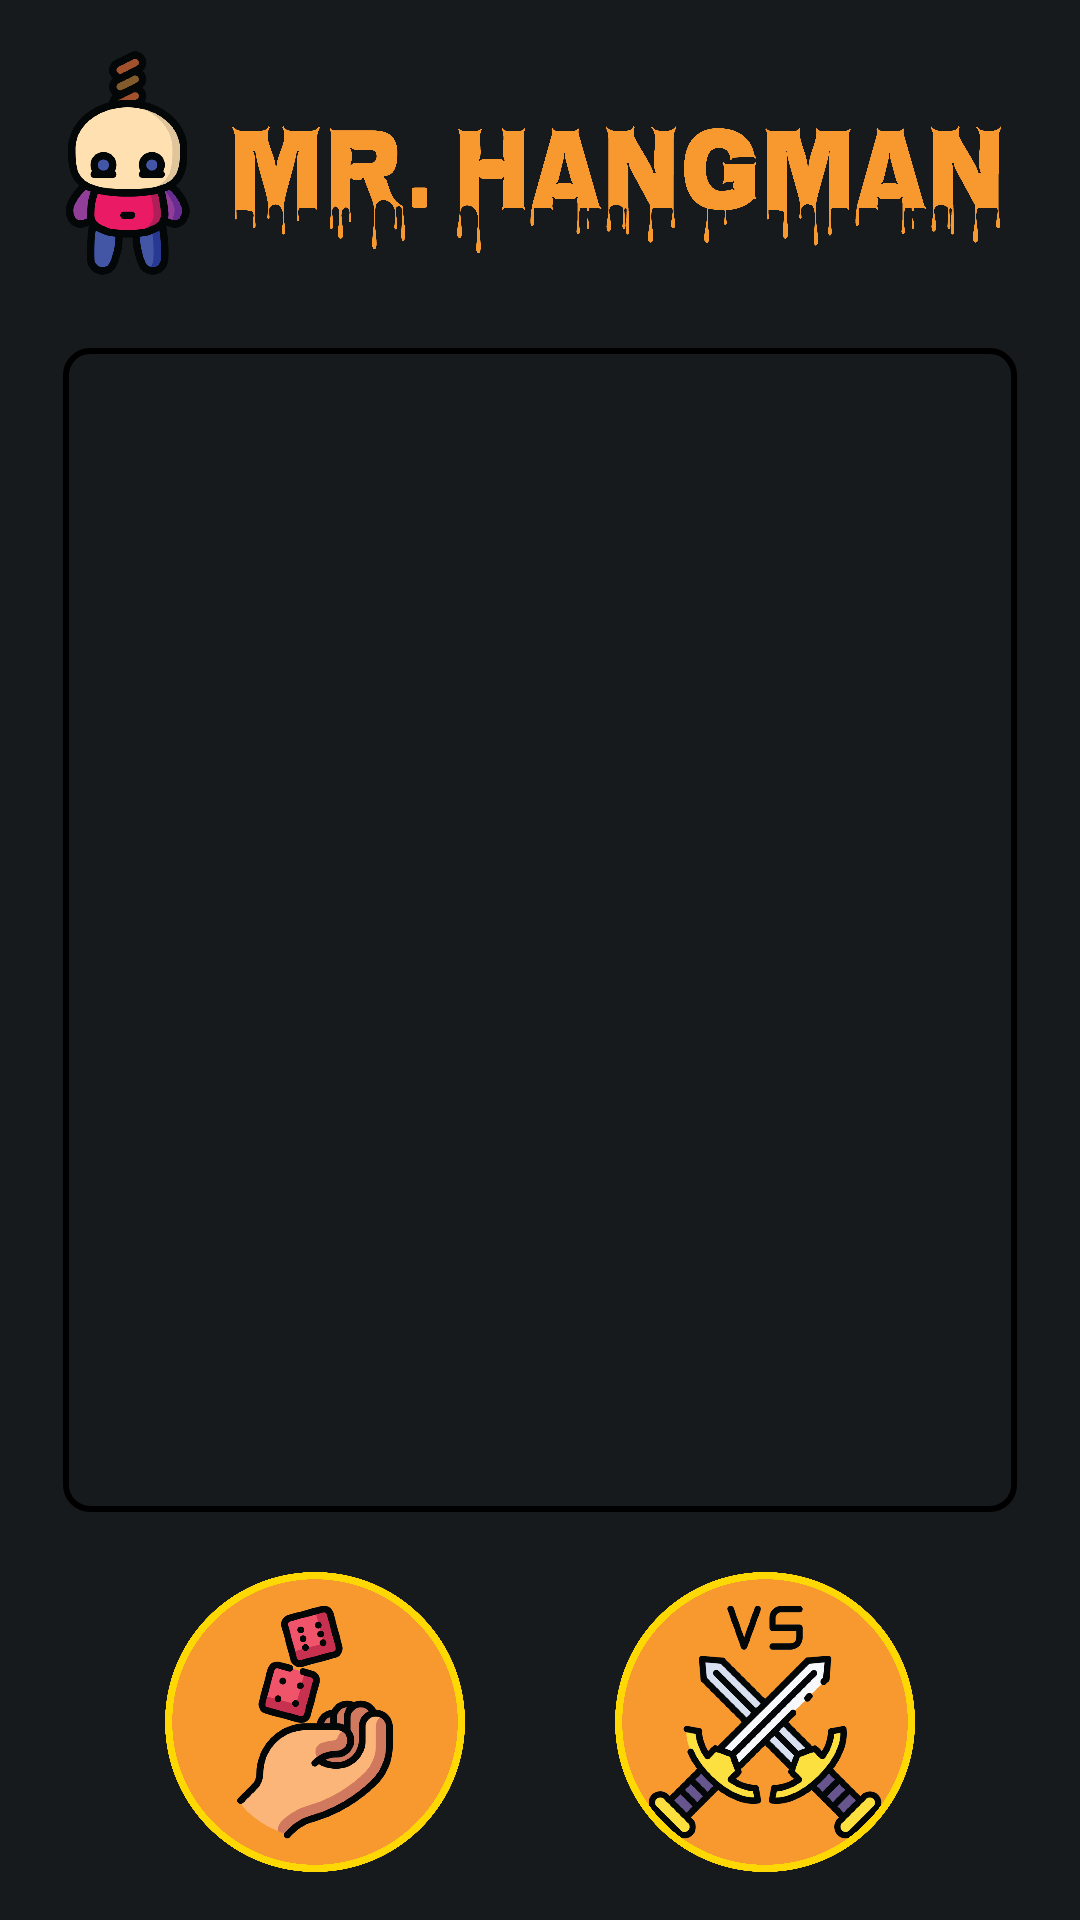

Where icons sit on this 1080px×1920px app screen, as bbox=(x1, y1, x2, y2):
random: bbox=(165, 1572, 465, 1872)
